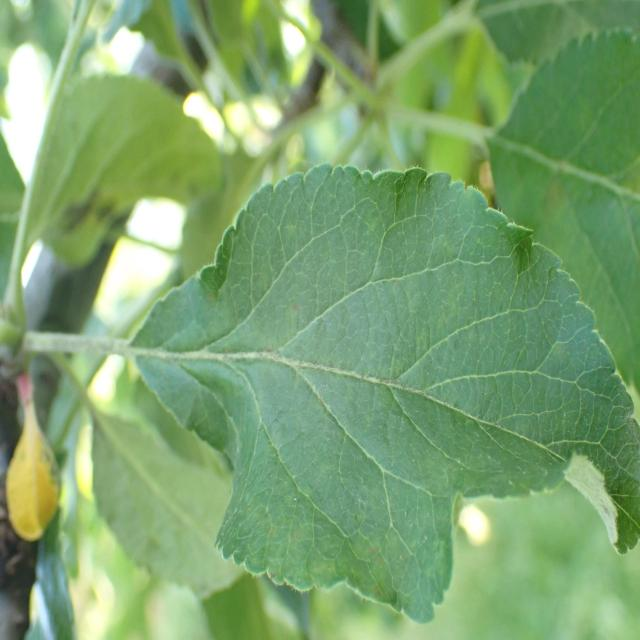scab: (205, 248, 574, 584)
